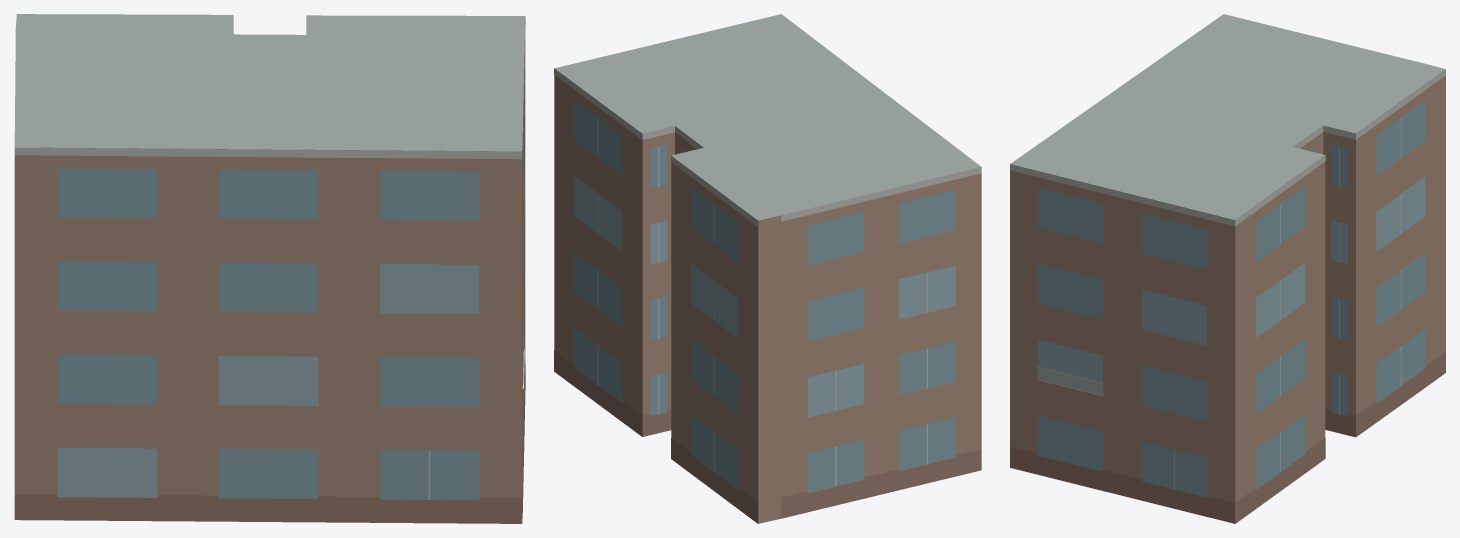
The model's file is survey-upis-32880150.glb.
3 renders of one model, left to right at view 1: azimuth 30°, elevation 25°; view 2: azimuth 150°, elevation 25°; view 3: azimuth 270°, elevation 25°, orthographic. The views are drawn at different scales.
Parts seen in each view (by area): view 1: survey-upis-32880150.tmp; view 2: survey-upis-32880150.tmp; view 3: survey-upis-32880150.tmp.
Boxes of the visible parts, left/top/right/bottom form: survey-upis-32880150.tmp: left=14, top=14, right=525, bottom=523; survey-upis-32880150.tmp: left=554, top=14, right=981, bottom=523; survey-upis-32880150.tmp: left=1010, top=14, right=1445, bottom=523.
Bounding box in the file's own units: 16.88 × 11.6 × 15.09.
